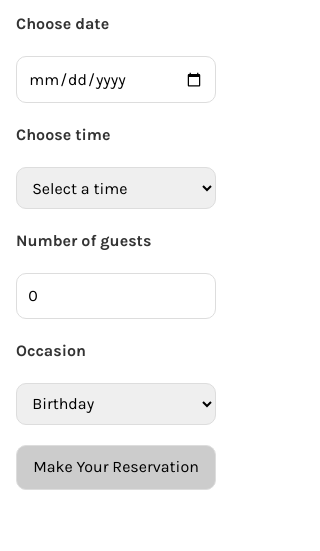
it: BookingForm › Date validation › shows error for past date
Type "2020-01-01" into the date field labelled "Choose date".
click(116, 80); type("2020-01-01")  # box x1=16 y1=56 x2=216 y2=103
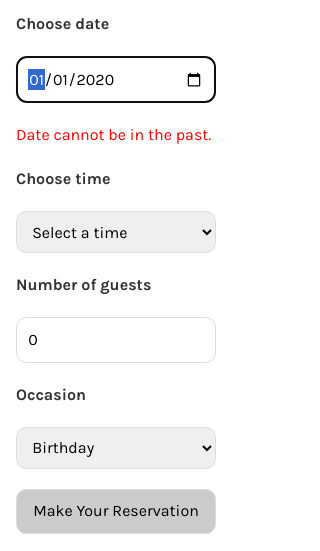
Now the text "Date cannot be in the past." is shown, box x1=16 y1=123 x2=216 y2=147
